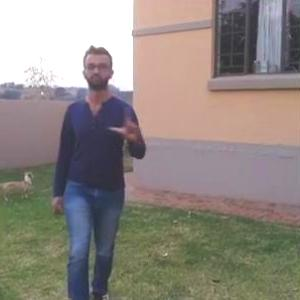land_hand: (107, 100, 145, 143)
